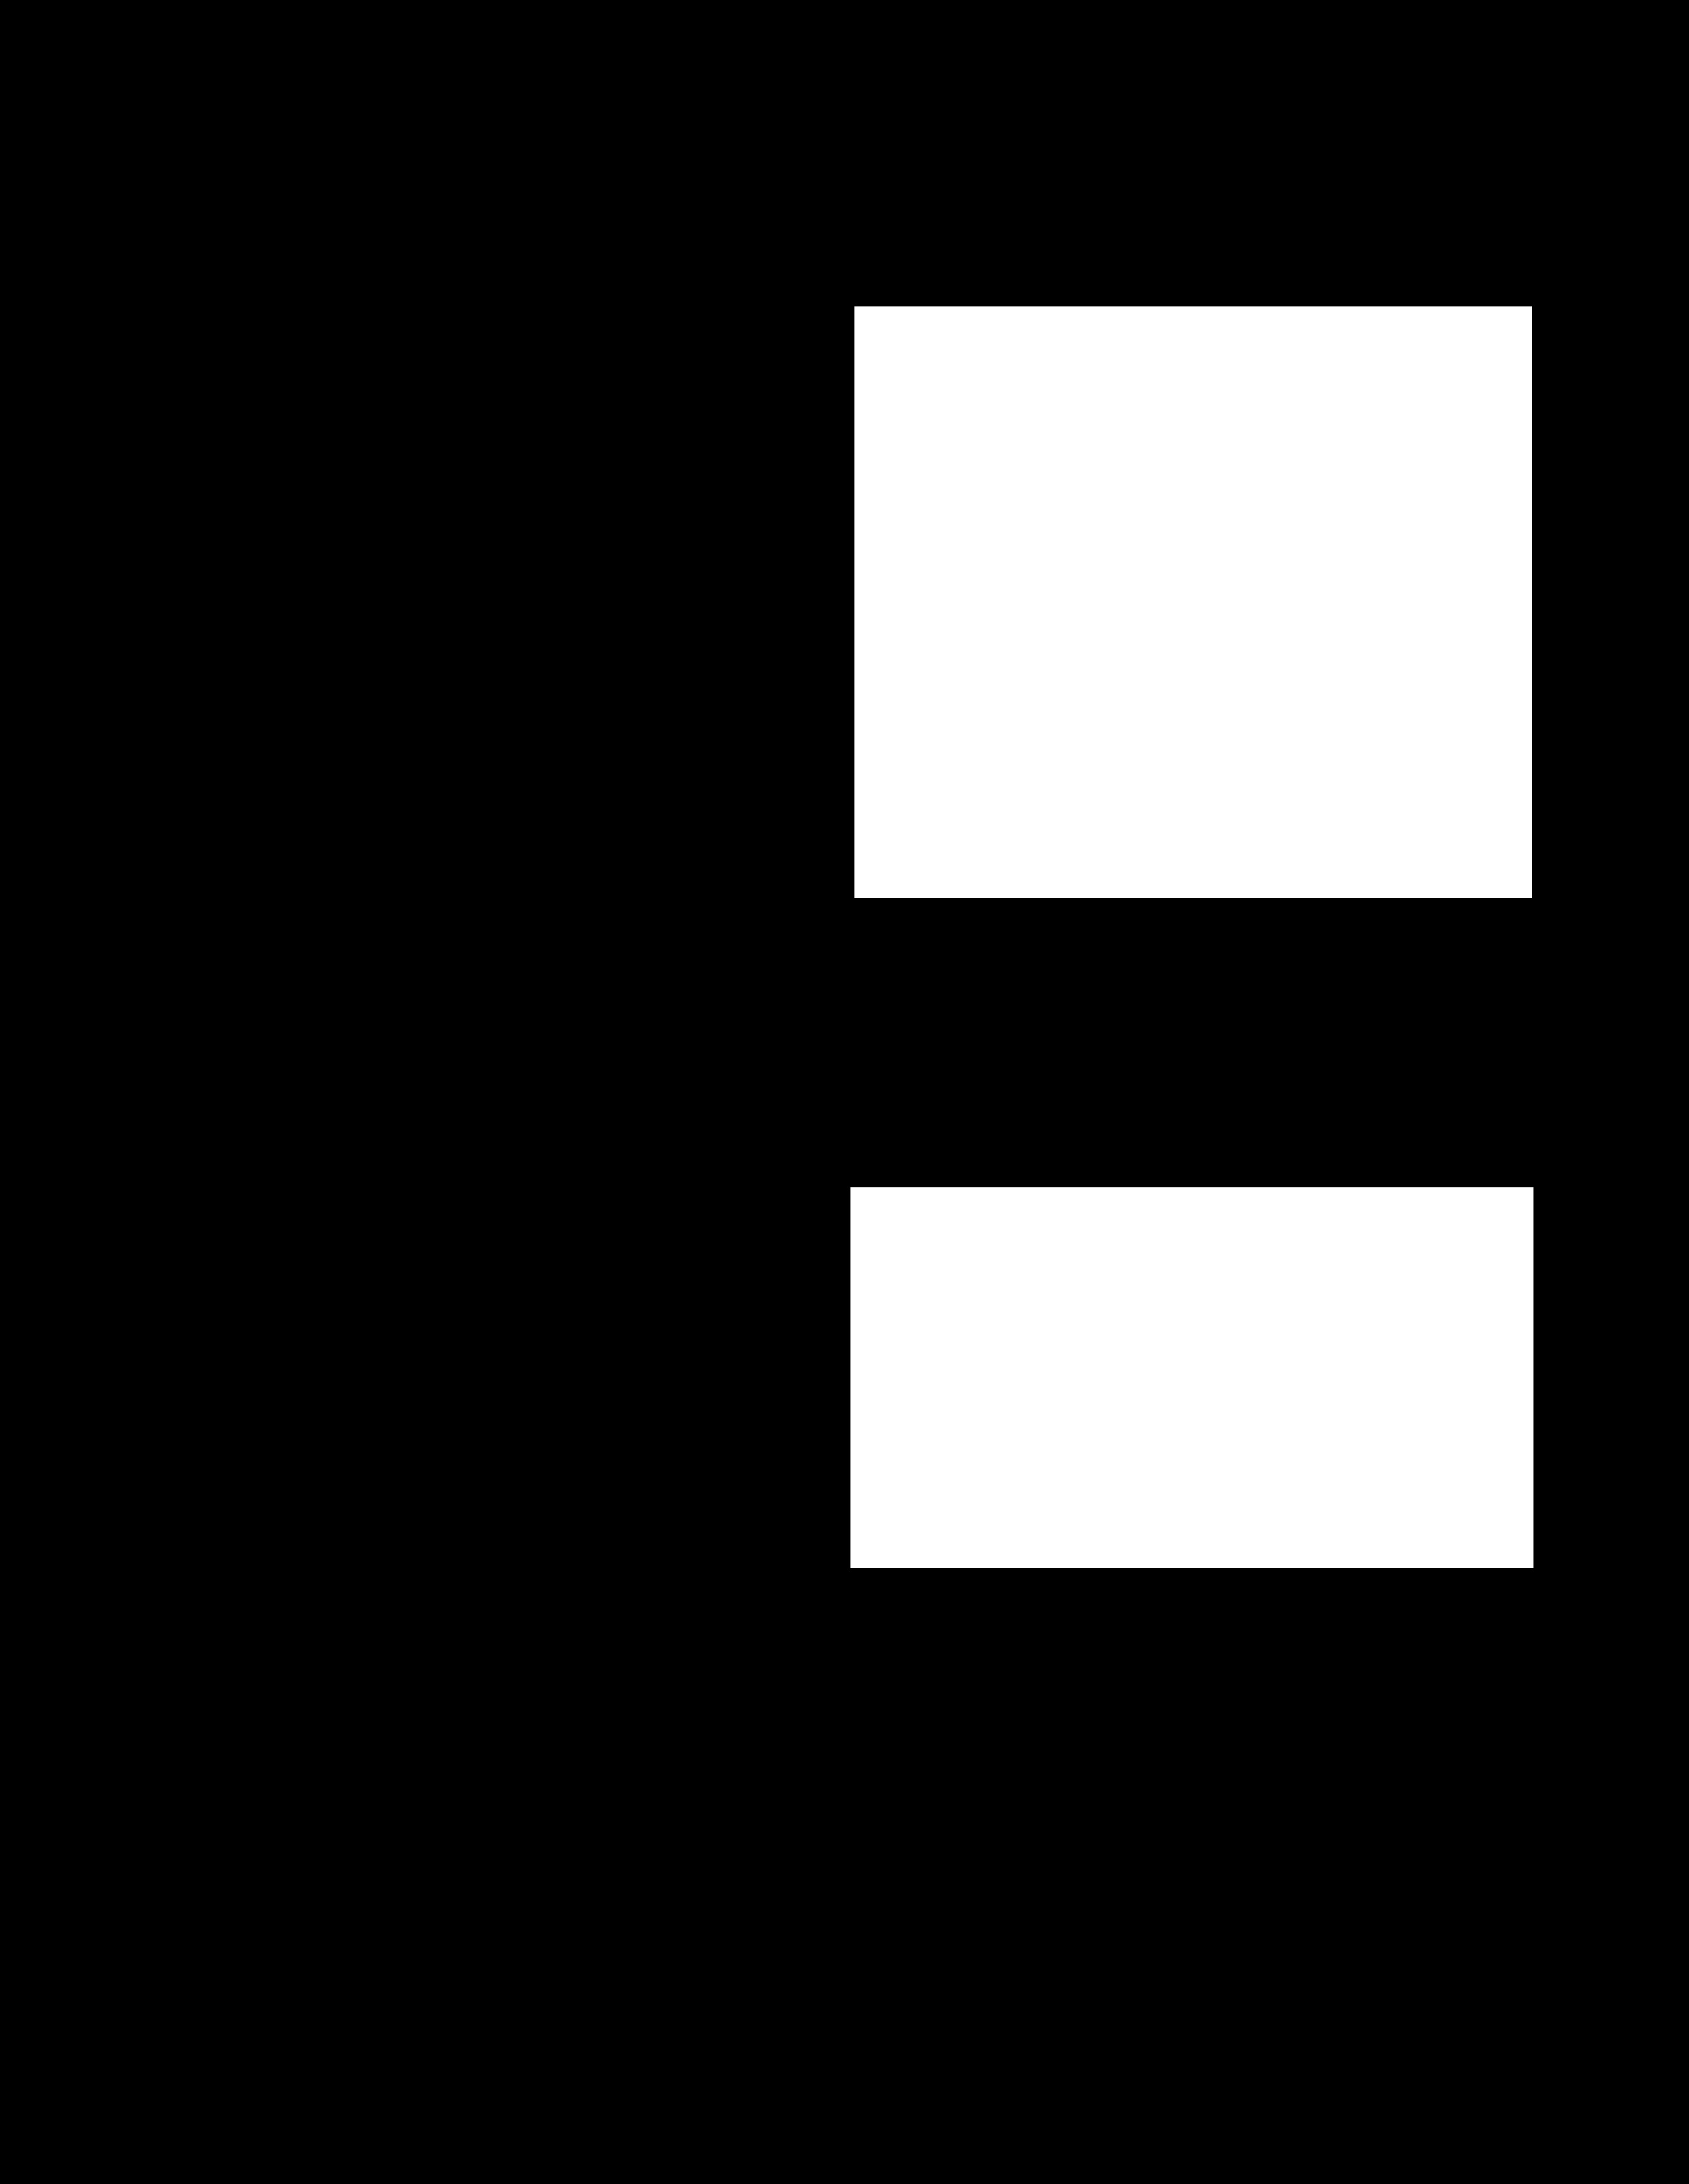table: (854, 307, 1531, 897), (851, 1188, 1533, 1567)
